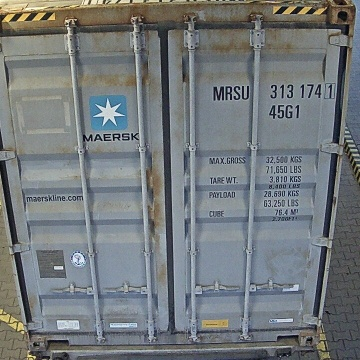serial_id: (213, 83, 335, 99)
